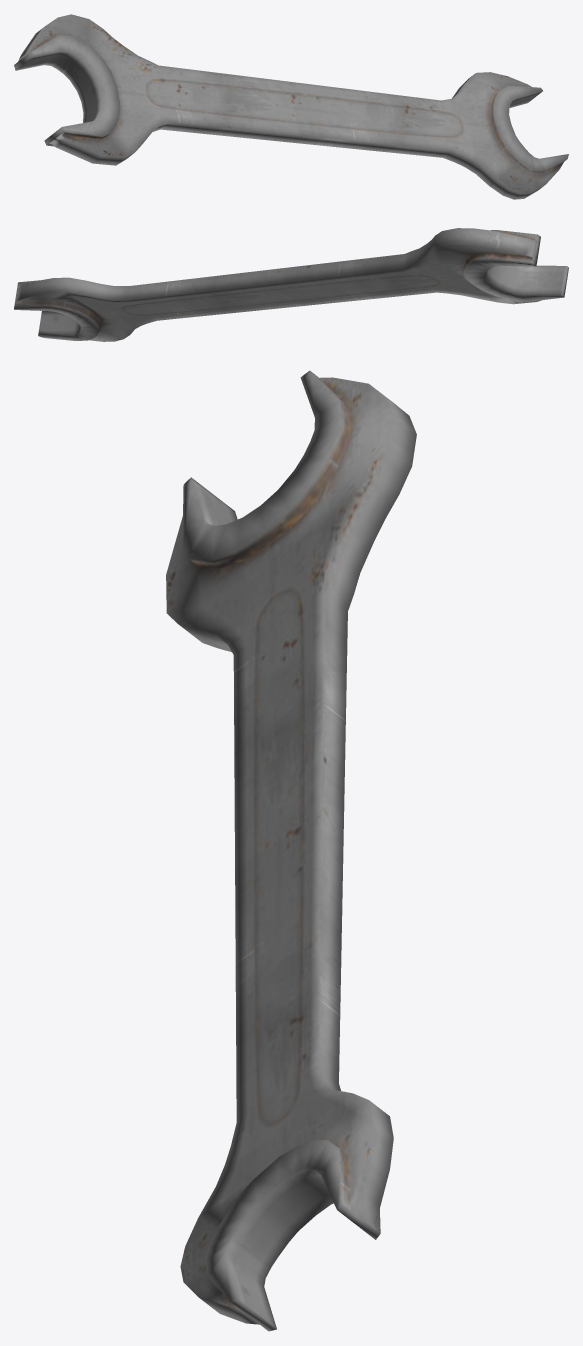
3 renders of one model, top to bottom at view 1: azimuth 30°, elevation 25°; view 2: azimuth 150°, elevation 25°; view 3: azimuth 270°, elevation 25°, orthographic. The views are drawn at different scales.
Visible parts, largest first — view 1: wrench_low; view 2: wrench_low; view 3: wrench_low.
Boxes of the visible parts, box(x1,y1,x2,y2) form: wrench_low: box(14, 14, 568, 199); wrench_low: box(14, 228, 568, 341); wrench_low: box(166, 370, 416, 1331).
Size of the model in its own units: 1.89 by 0.8585 by 0.3936.
1 material, 1 textured.
